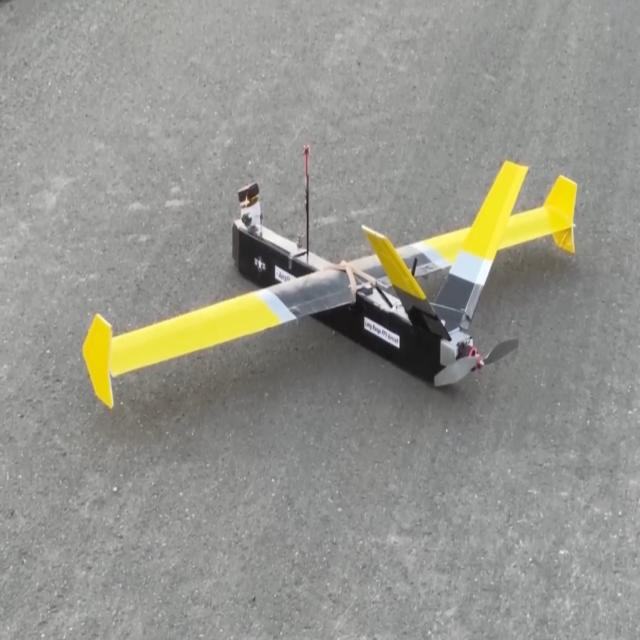iha: (78, 160, 573, 410)
